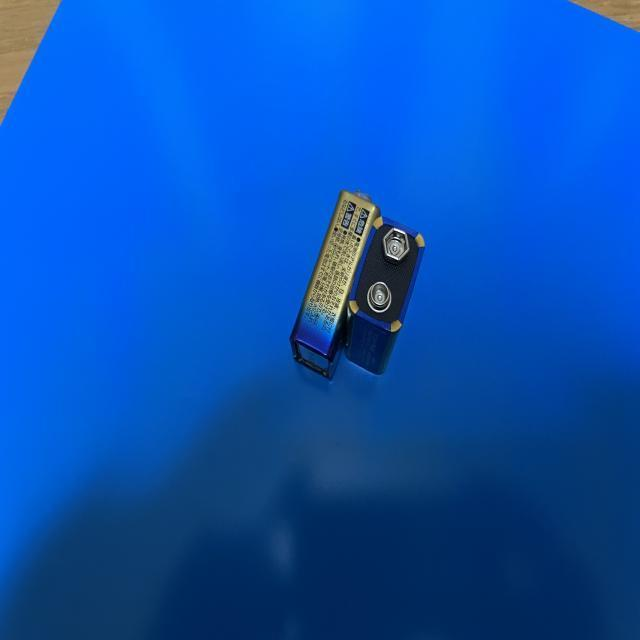9V: (290, 188, 382, 379), (346, 215, 427, 375)
